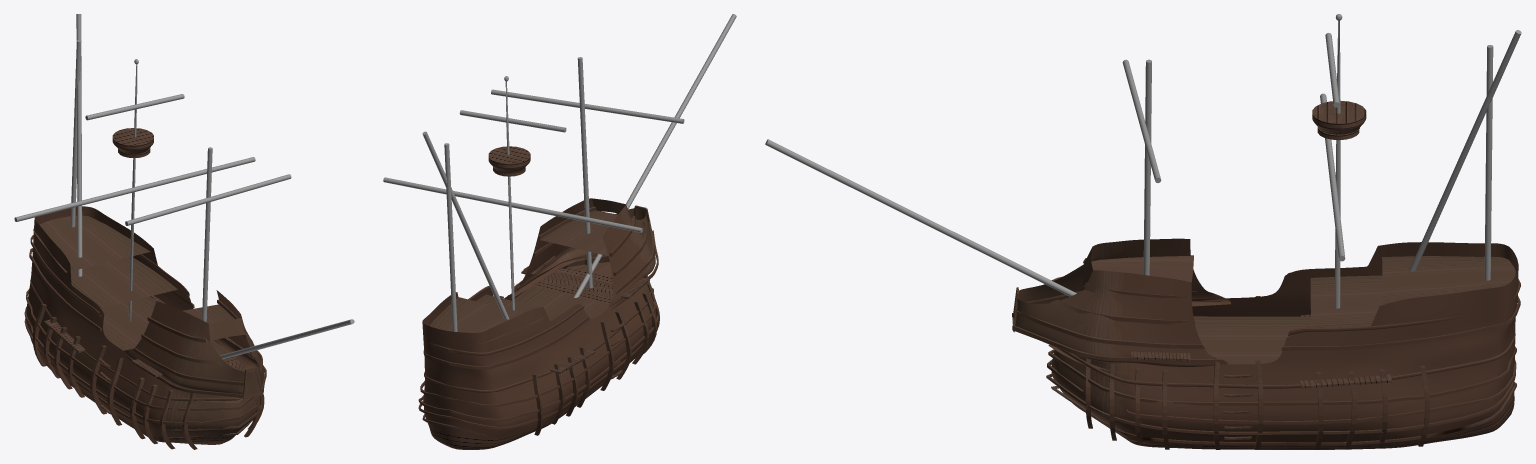
The model's file is kapal.FBX.
3 views of the same model, side by side, from view 1: azimuth 30°, elevation 25°; view 2: azimuth 150°, elevation 25°; view 3: azimuth 270°, elevation 25° (orthographic). The views are drawn at different scales.
Visible parts, largest first — view 1: Plane004, Plane006, Plane005, Plane003, Line008, Line002, Line005, Line004, Line003, Object004, Object003, Line001 (+20 smaller); view 2: Plane004, Plane003, Plane006, Plane013, Line001, Line008, Line004, Line002, Line005, Line003, Object004, Object003 (+13 smaller); view 3: Plane004, Plane006, Plane003, Plane005, Line001, Object004, Object003, Object002, Line002, Plane013, Object001, Line003 (+10 smaller).
Boxes of the visible parts, bbox=[...] form: Plane004: bbox=[26, 206, 264, 444]; Plane006: bbox=[33, 215, 150, 272]; Plane005: bbox=[70, 257, 177, 308]; Plane003: bbox=[101, 296, 245, 402]; Line008: bbox=[14, 157, 255, 221]; Line002: bbox=[76, 14, 82, 276]; Line005: bbox=[125, 174, 291, 225]; Line004: bbox=[202, 147, 212, 321]; Line003: bbox=[70, 40, 81, 227]; Object004: bbox=[26, 289, 254, 410]; Object003: bbox=[24, 306, 257, 424]; Line001: bbox=[220, 319, 354, 359]; Plane004: bbox=[422, 198, 656, 449]; Plane003: bbox=[514, 262, 612, 318]; Plane006: bbox=[430, 297, 543, 343]; Plane013: bbox=[539, 210, 632, 255]; Line001: bbox=[573, 14, 736, 297]; Line008: bbox=[383, 177, 642, 232]; Line004: bbox=[577, 57, 592, 288]; Line002: bbox=[422, 131, 509, 319]; Line005: bbox=[491, 89, 684, 123]; Line003: bbox=[444, 143, 457, 331]; Object004: bbox=[420, 290, 656, 407]; Object003: bbox=[418, 288, 658, 421]; Plane004: bbox=[1014, 238, 1518, 449]; Plane006: bbox=[1382, 256, 1515, 305]; Plane003: bbox=[1048, 316, 1310, 374]; Plane005: bbox=[1310, 275, 1382, 327]; Line001: bbox=[765, 139, 1076, 296]; Object004: bbox=[1048, 346, 1516, 405]; Object003: bbox=[1047, 359, 1516, 424]; Object002: bbox=[1046, 372, 1515, 434]; Line002: bbox=[1409, 30, 1521, 271]; Plane013: bbox=[1091, 255, 1193, 282]; Object001: bbox=[1051, 382, 1516, 445]; Line003: bbox=[1484, 45, 1493, 280].
Bounding box in the file's own units: 174 × 217 × 357.
3 materials, 2 textured.
